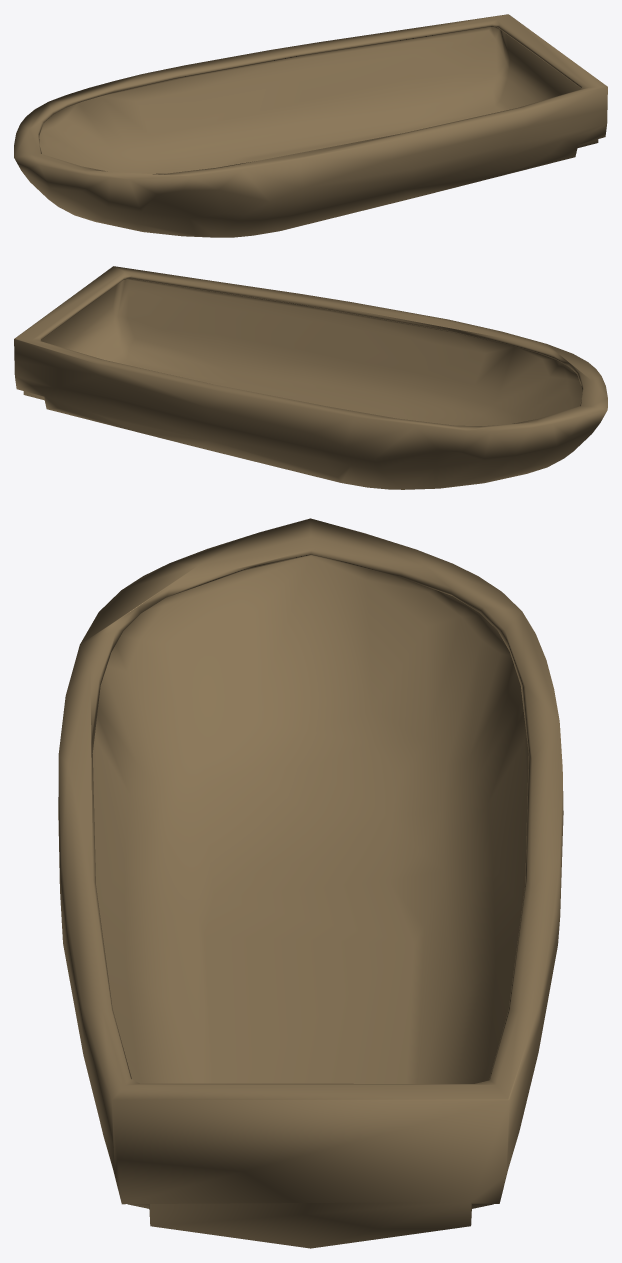
The model's file is boat.glb.
3 views of the same model, one above another, from view 1: azimuth 30°, elevation 25°; view 2: azimuth 150°, elevation 25°; view 3: azimuth 270°, elevation 25° (orthographic). The views are drawn at different scales.
Visible parts, largest first — view 1: B1_Boat_model; view 2: B1_Boat_model; view 3: B1_Boat_model.
Part boxes in pixels (x1,y1,x2,y2): B1_Boat_model: [14, 14, 607, 237]; B1_Boat_model: [14, 266, 607, 489]; B1_Boat_model: [58, 518, 563, 1248].
Size of the model in its own units: 128 by 24.87 by 51.53.
